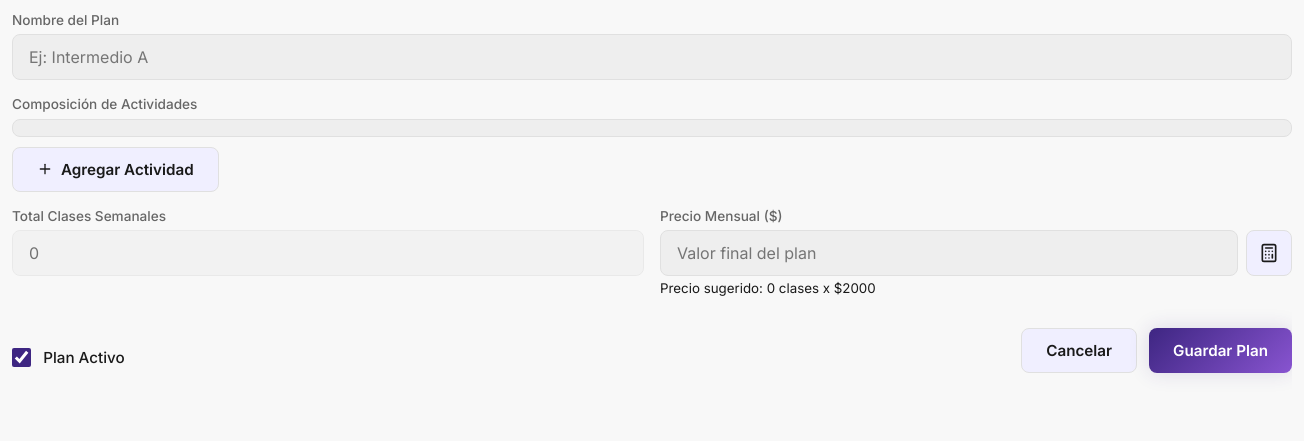
Scenario: PlanForm › Agregar actividad: botón "Agregar Actividad" añade una fila
expect the text "clases/sem" is not shown: met
Click the button "Agregar Actividad": (115,169) top-left (12, 147), bottom-right (219, 192)
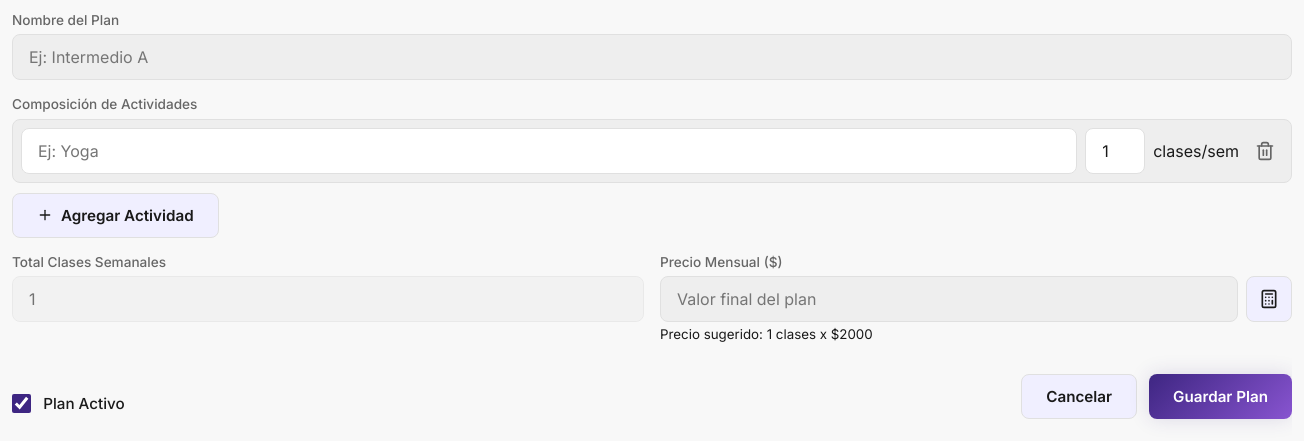
expect the text "clases/sem" is shown: met, box top-left (1153, 141), bottom-right (1239, 161)
expect the number of elements with class "activity-row" is 1: met, box top-left (21, 128), bottom-right (1283, 174)
